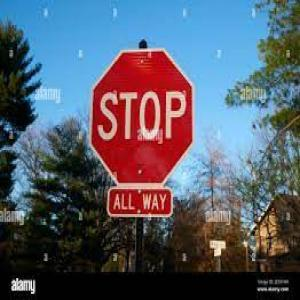STOP: (92, 51, 197, 189)
